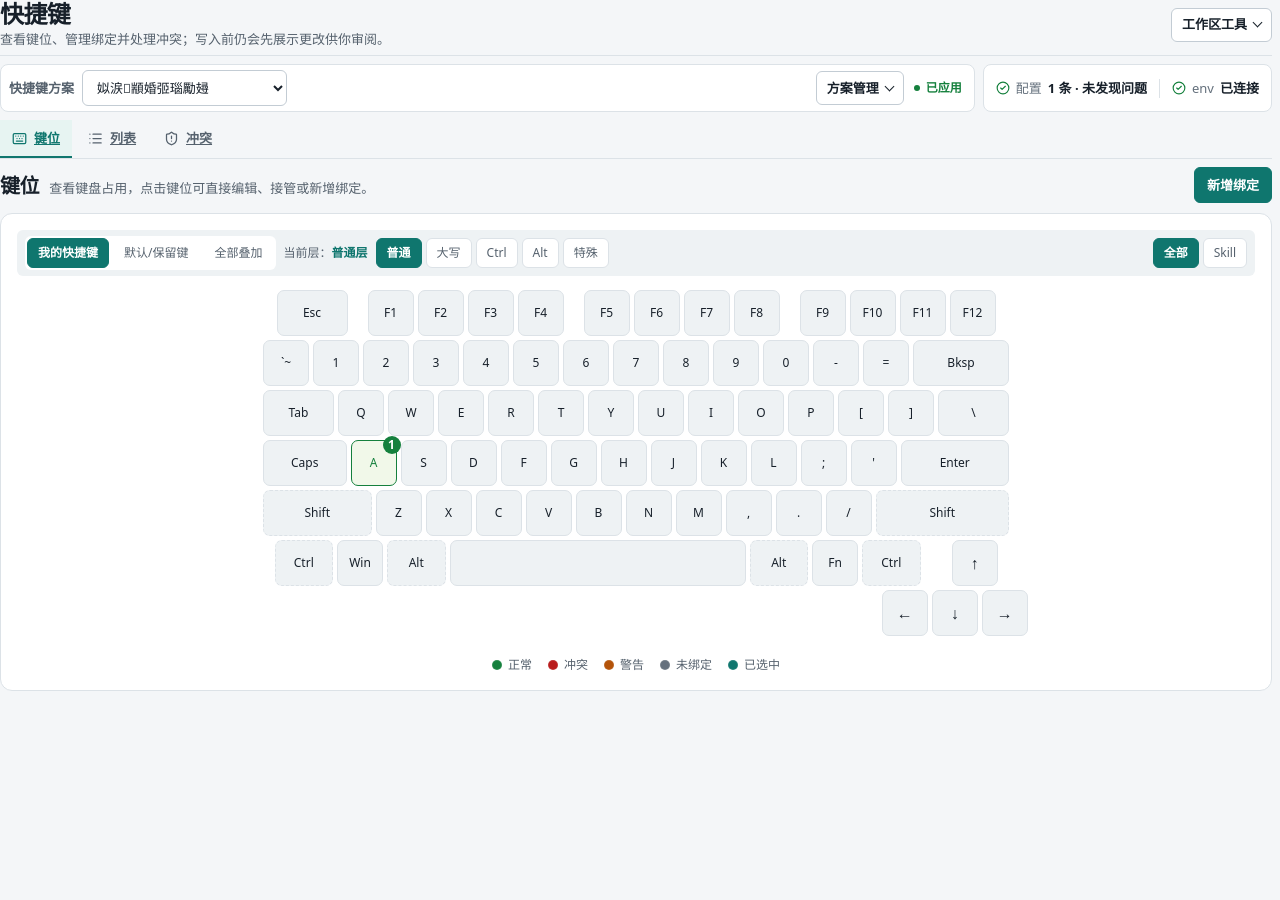
hotkey workspace shared data › renders export cheatsheet with the accessible BusinessDialog shell
The image size is (1280, 900).
Click the button "工作区工具".
click(1222, 25)  # box [1171, 8, 1272, 42]
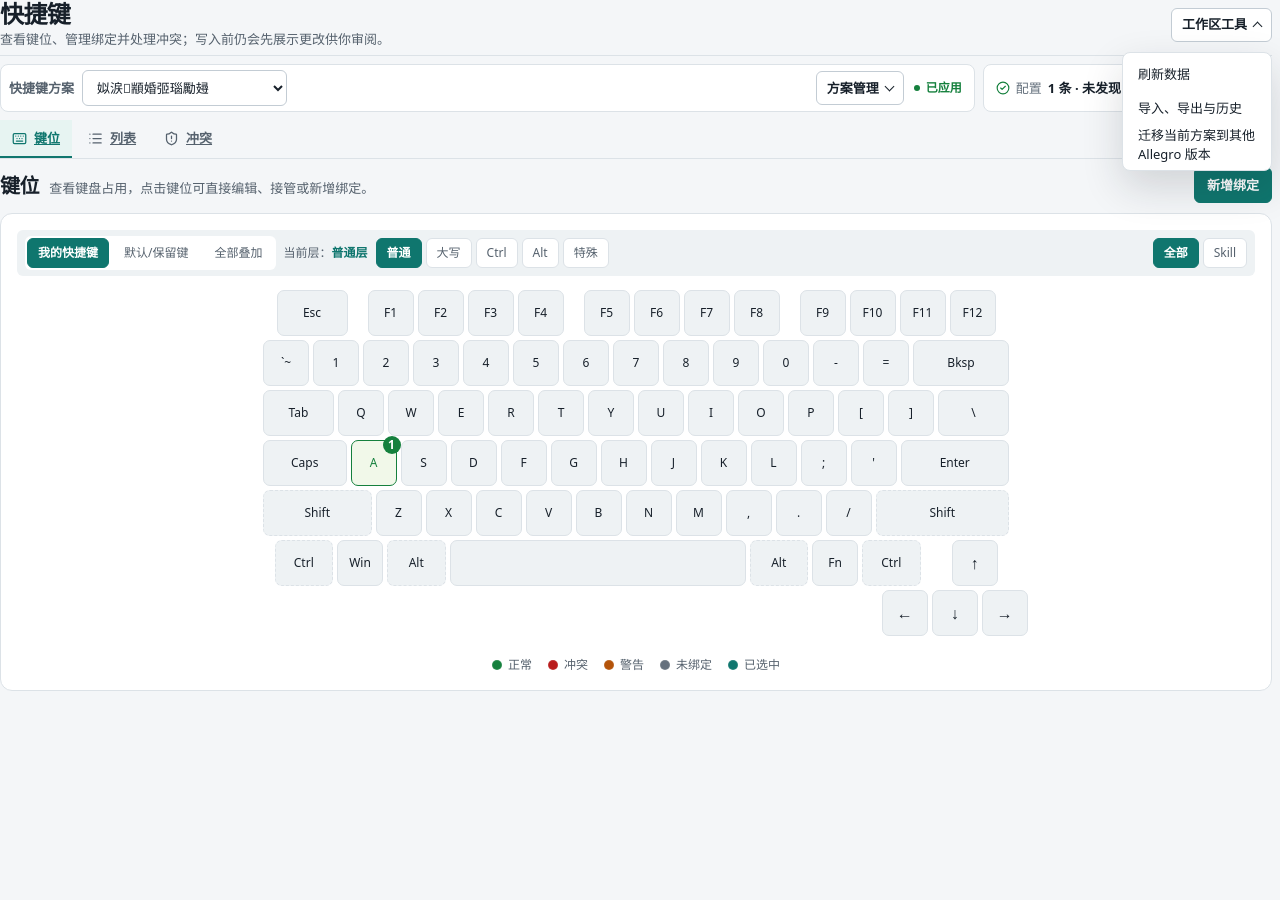
Click the button "导入、导出与历史".
click(1197, 109)  # box [1128, 92, 1266, 126]
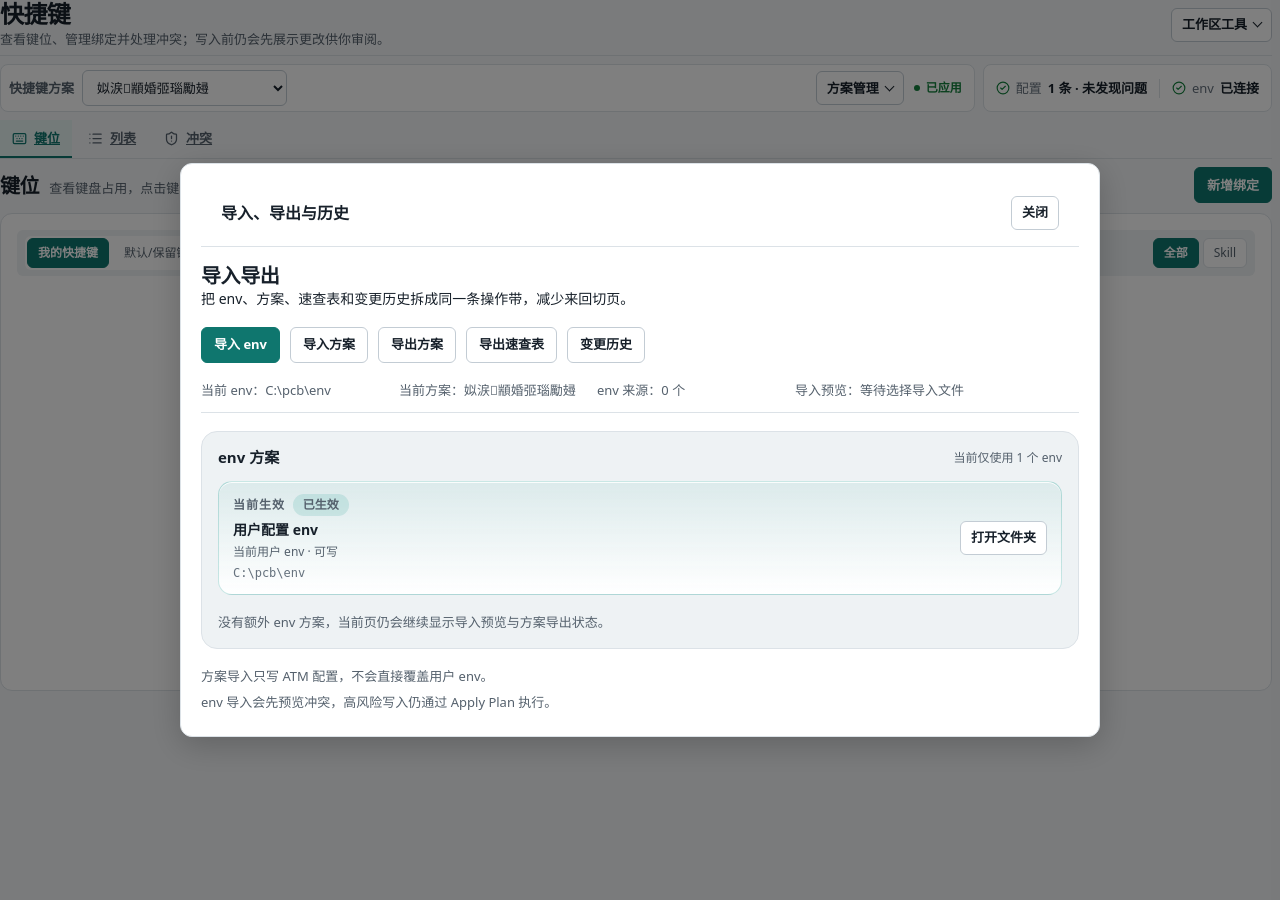
Now the heading "导入导出" is shown, box [201, 262, 279, 289]
Now the button "导出速查表" is enabled
Click the button "导出速查表".
click(512, 345)  # box [466, 327, 557, 363]
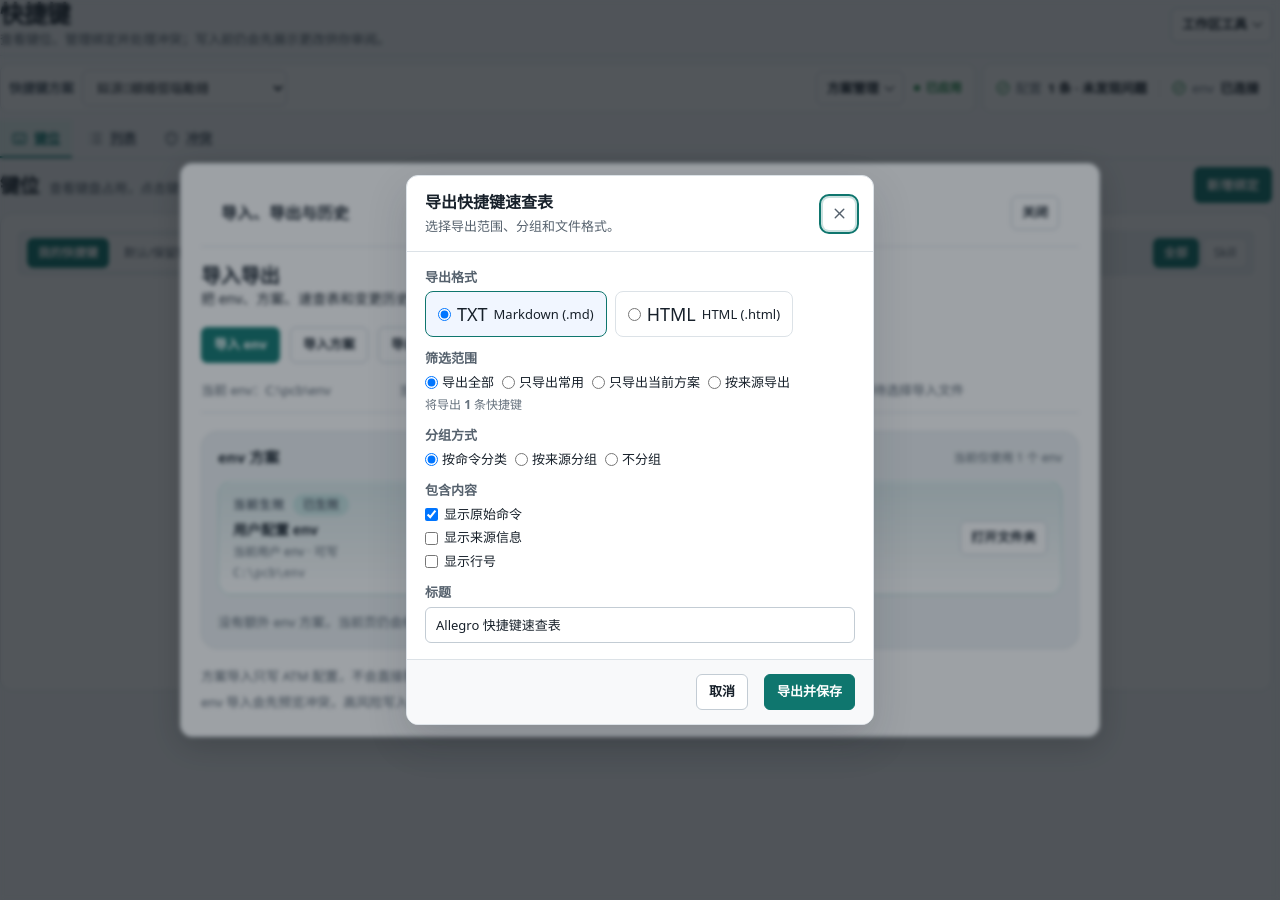
Now the dialog with class "export-dialog" is shown, box [406, 175, 874, 725]
Now the footer with class "ui-business-dialog-footer" is shown, box [407, 659, 873, 724]
